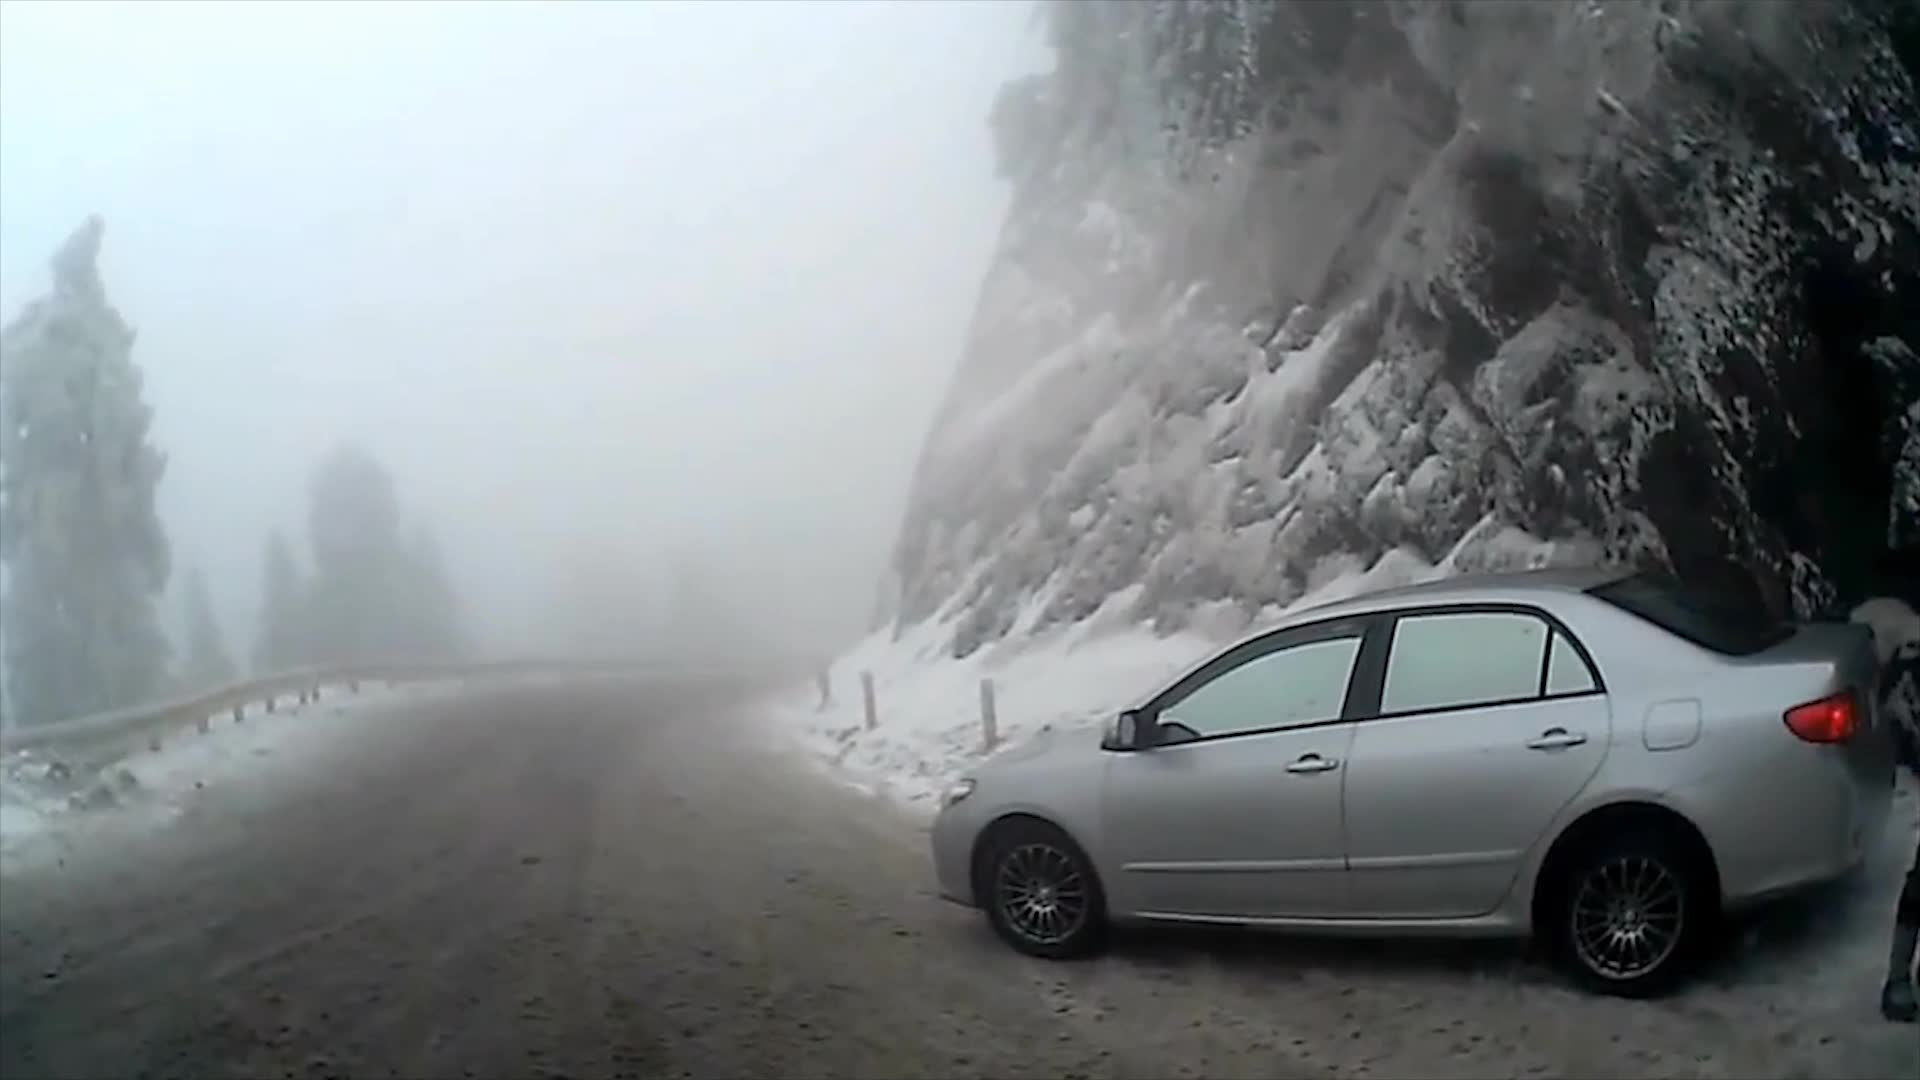pedestrian: (1858, 481, 1920, 1036)
vehicle: (933, 566, 1894, 1000)
